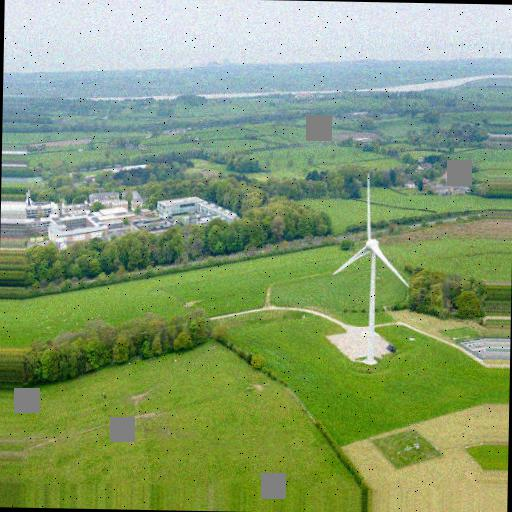wind turbine: (331, 175, 415, 368)
